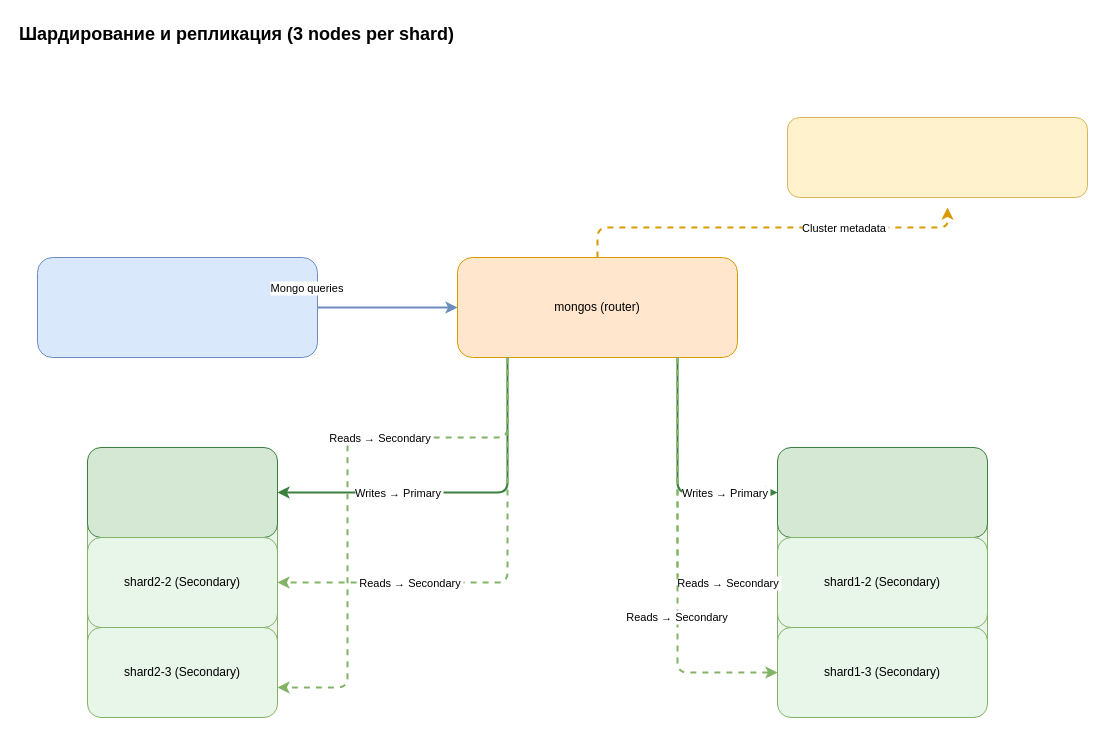
Some shapes in this 1105 by 735 pixel diagram are drawn without their labels. The shapes that lost their labels are listed below. From the top down, each one's centre as x and y in pixels, then its label:
[937,157]: configSrv
[177,307]: pymongo-api
[182,492]: shard2-1 (Primary)
[882,492]: shard1-1 (Primary)
